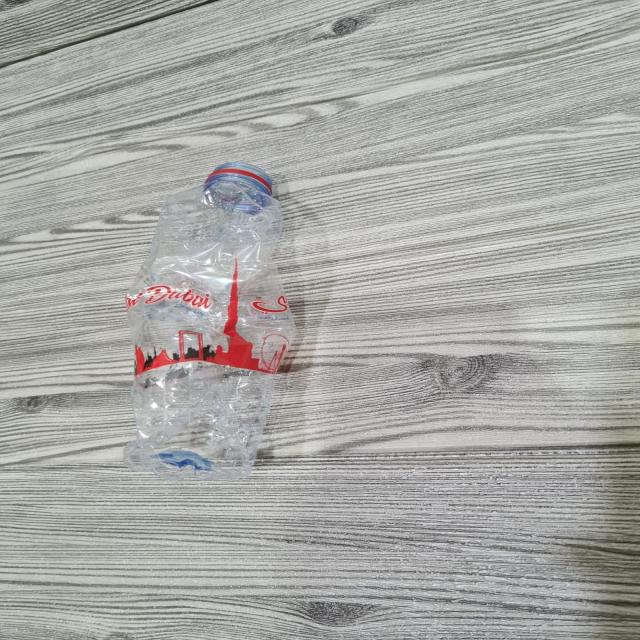bottle: (124, 155, 274, 478)
